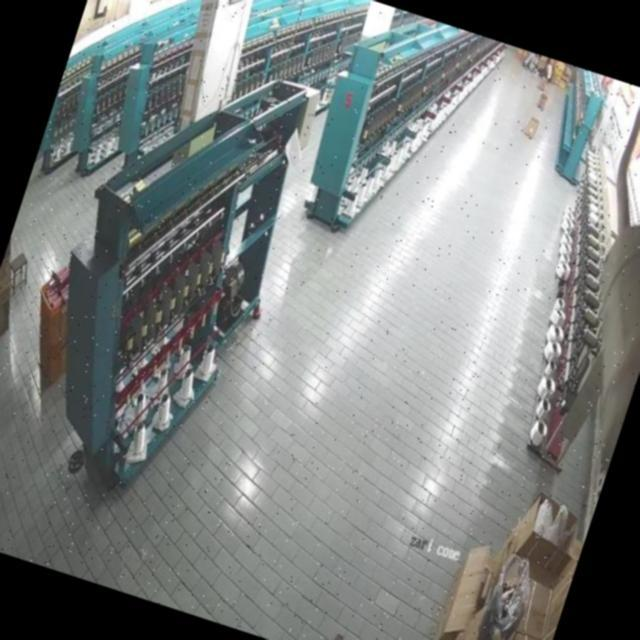person: (536, 56, 559, 84), (522, 52, 540, 80)
